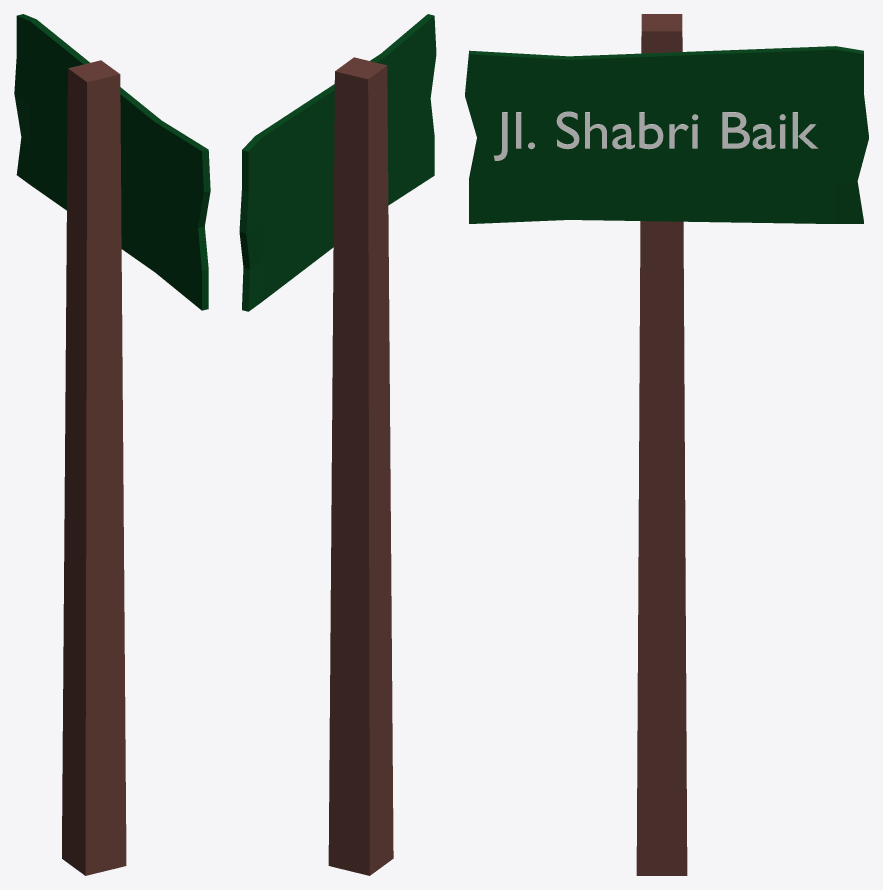
File: PlangJalan-5.fbx
3 views of the same model, side by side, from view 1: azimuth 30°, elevation 25°; view 2: azimuth 150°, elevation 25°; view 3: azimuth 270°, elevation 25° (orthographic). The views are drawn at different scales.
Visible parts, largest first — view 1: Cube, Cube.001; view 2: Cube, Cube.001; view 3: Cube.001, Cube, Text.
Boxes of the visible parts, left/top/right/bottom form: Cube: left=62, top=60, right=126, bottom=875; Cube.001: left=14, top=14, right=210, bottom=310; Cube: left=328, top=57, right=393, bottom=875; Cube.001: left=239, top=14, right=436, bottom=311; Cube.001: left=465, top=46, right=868, bottom=223; Cube: left=636, top=14, right=687, bottom=875; Text: left=494, top=111, right=818, bottom=160.
Size of the model in its own units: 28.73 by 471 by 205.
